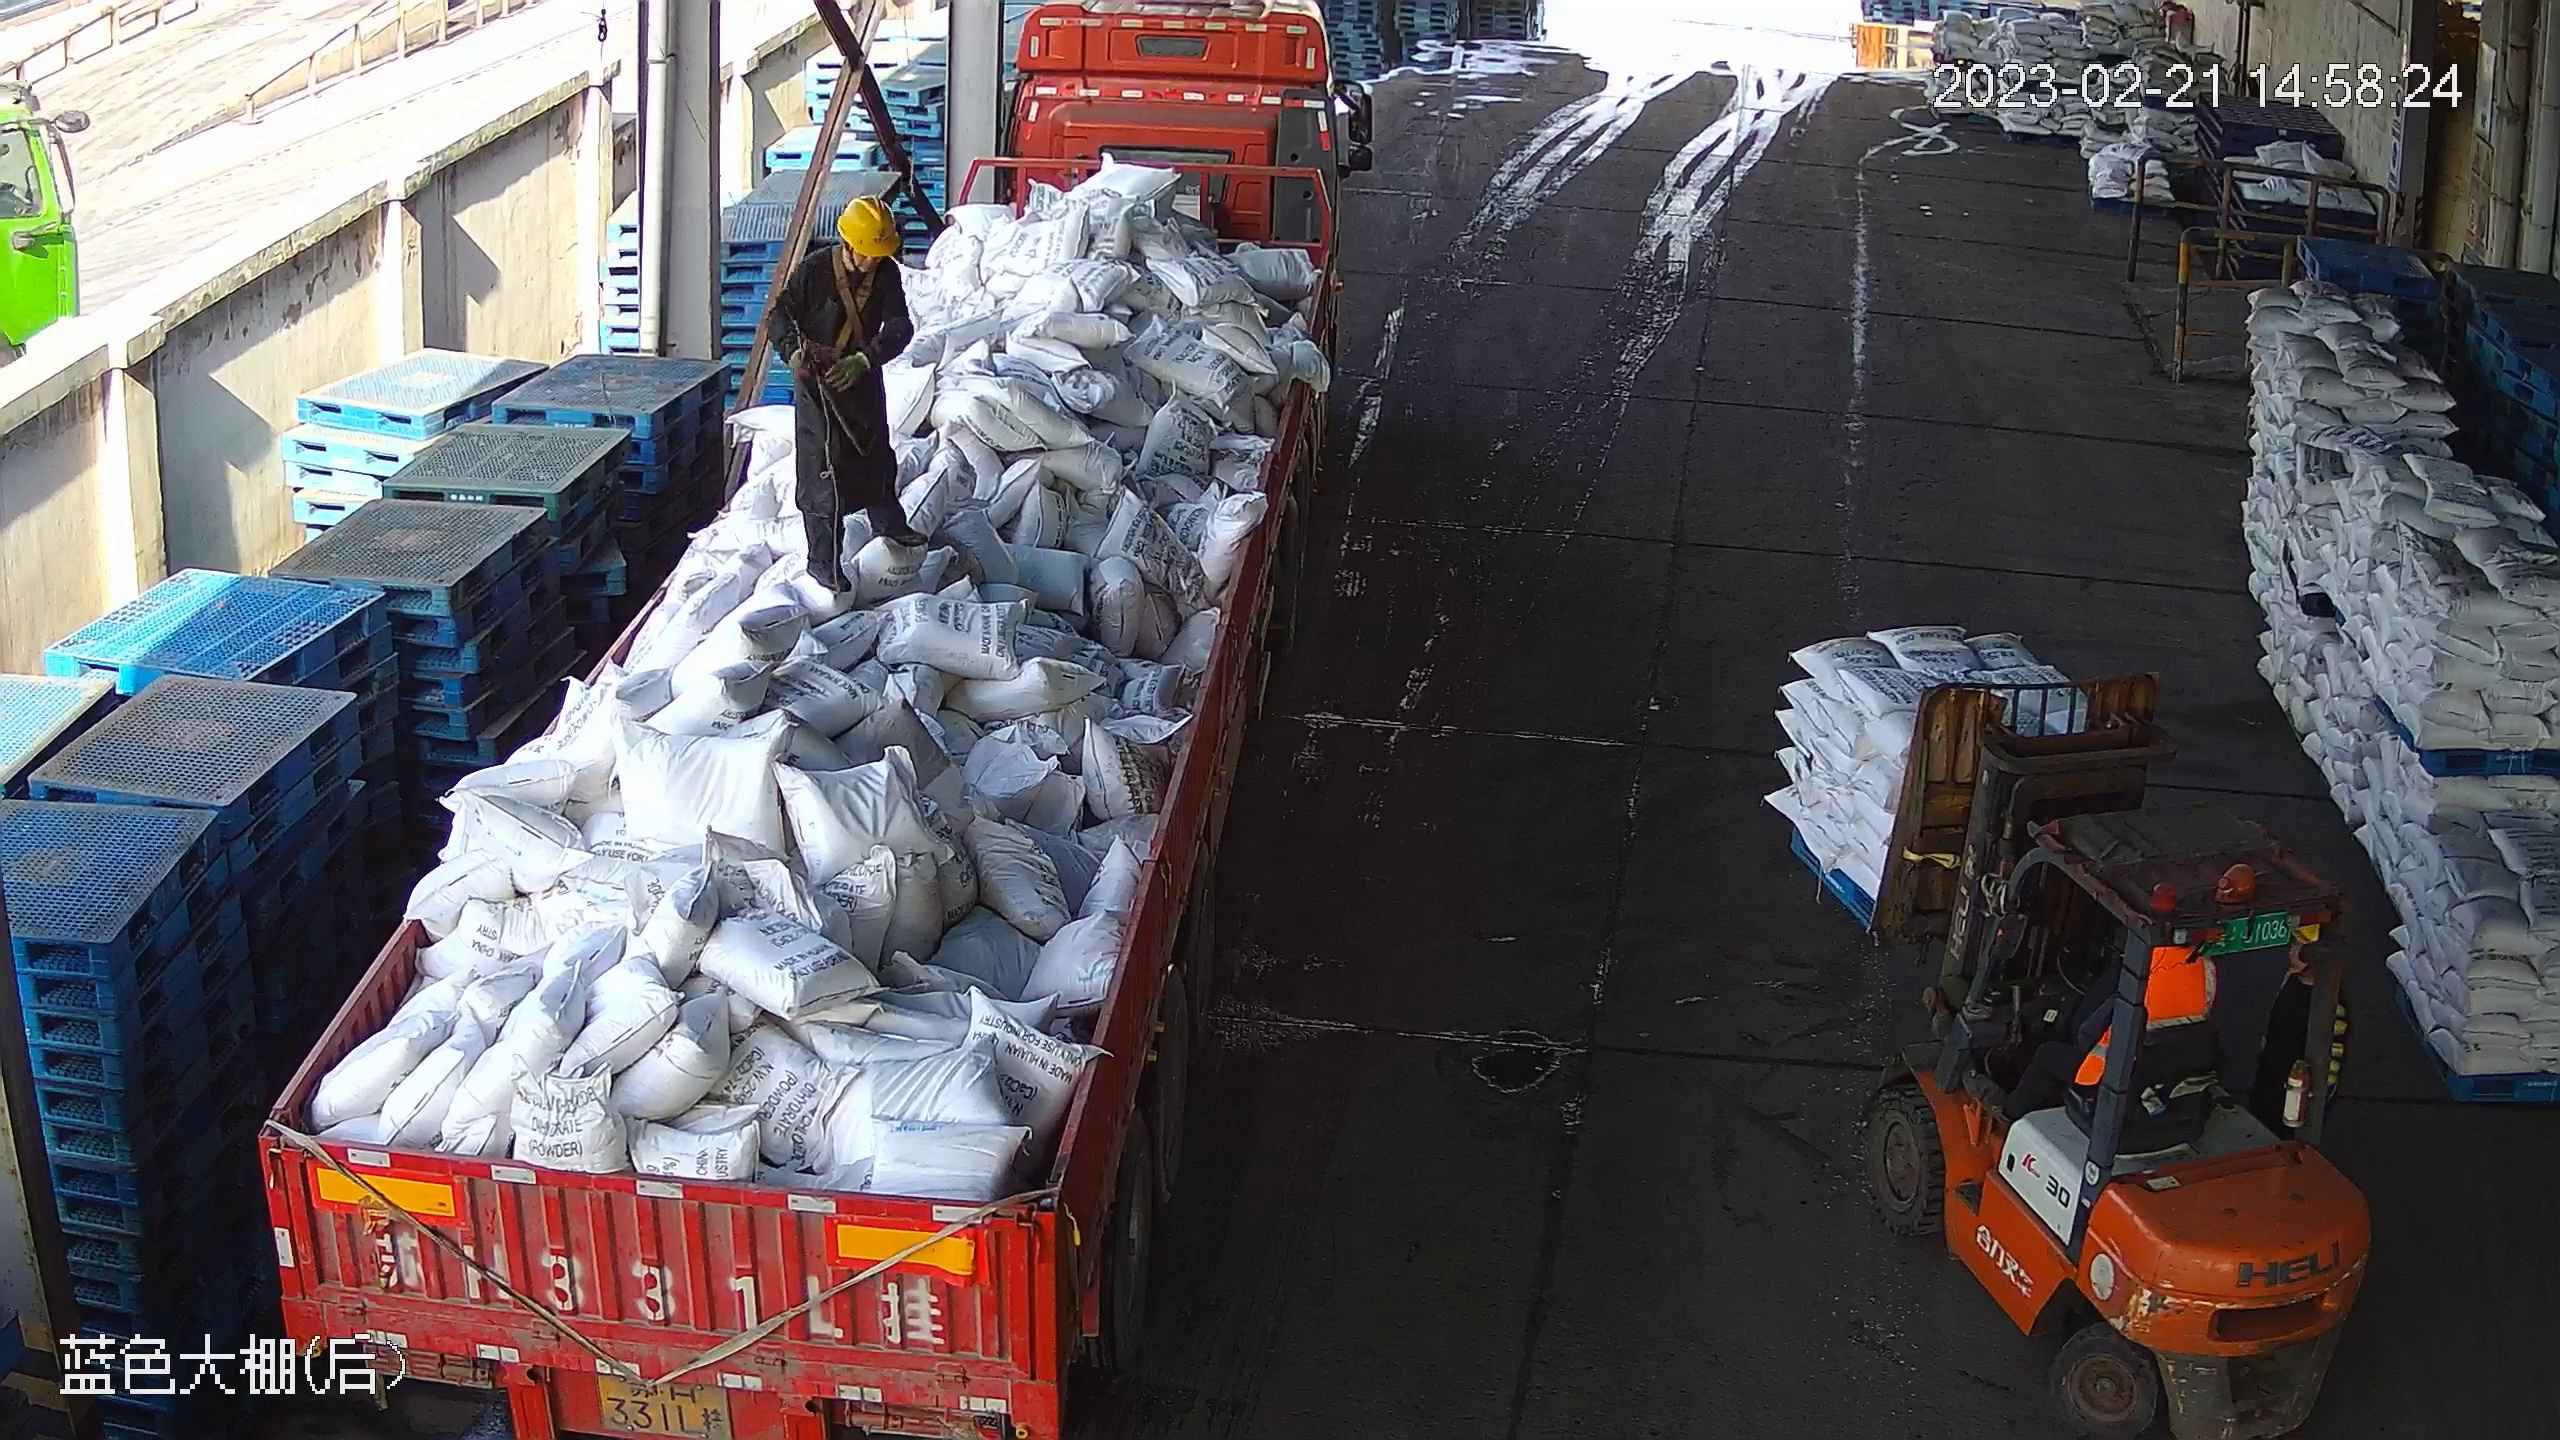belt: (824, 248, 884, 367)
head: (799, 197, 903, 318)
helmet: (837, 198, 898, 257)
people: (766, 195, 930, 597), (1966, 903, 2217, 1129), (2251, 917, 2349, 1139)
truck: (247, 1, 1375, 1439)
